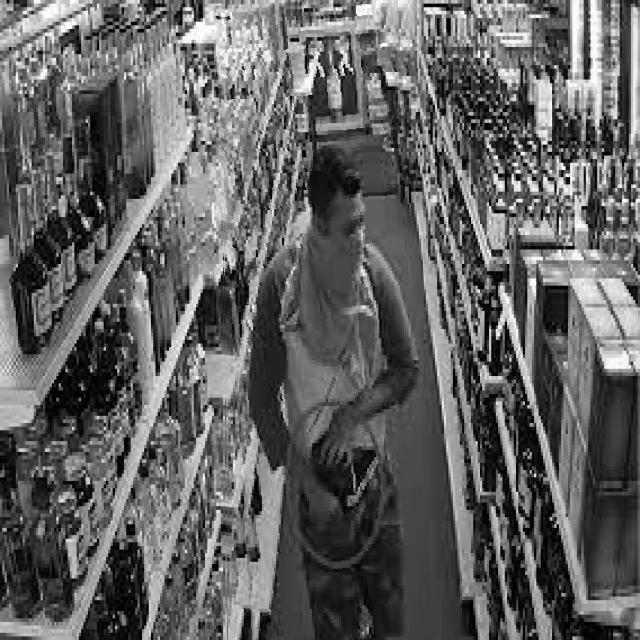Shoplifting: (222, 0, 423, 640)
